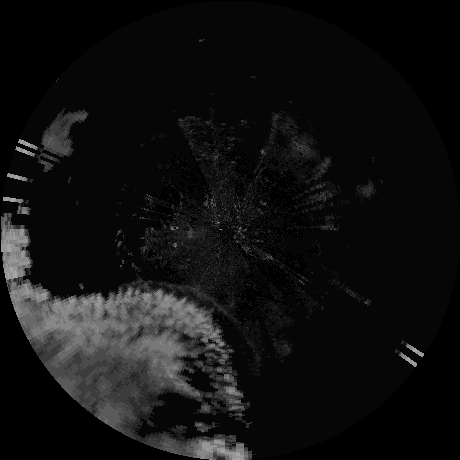frontgust: (139, 279, 233, 319)
